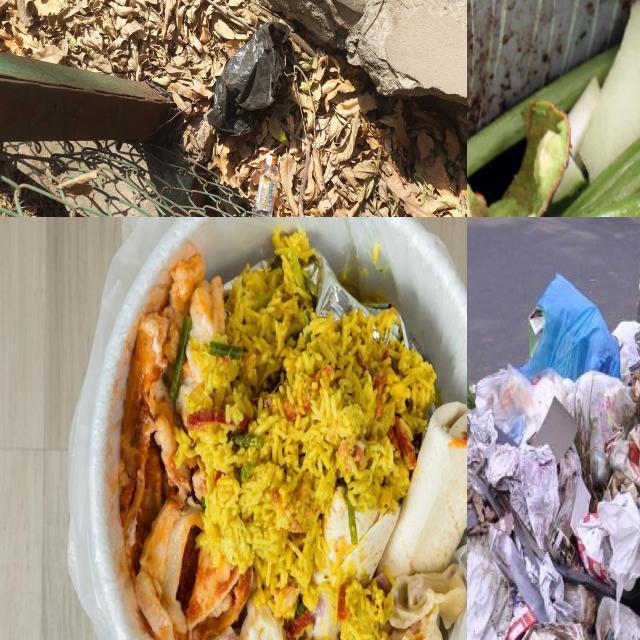Garbage: (89, 217, 467, 640), (467, 276, 640, 640), (467, 3, 640, 217)
Glass_bottle: (254, 155, 279, 217)
Plastic_Bag: (521, 273, 620, 380), (207, 23, 289, 134), (476, 365, 573, 442), (573, 370, 636, 485), (575, 492, 640, 597), (488, 525, 548, 621), (467, 545, 512, 640), (596, 596, 640, 640), (613, 322, 640, 381)
Plastic_wraper: (313, 252, 391, 320), (391, 316, 422, 353)
